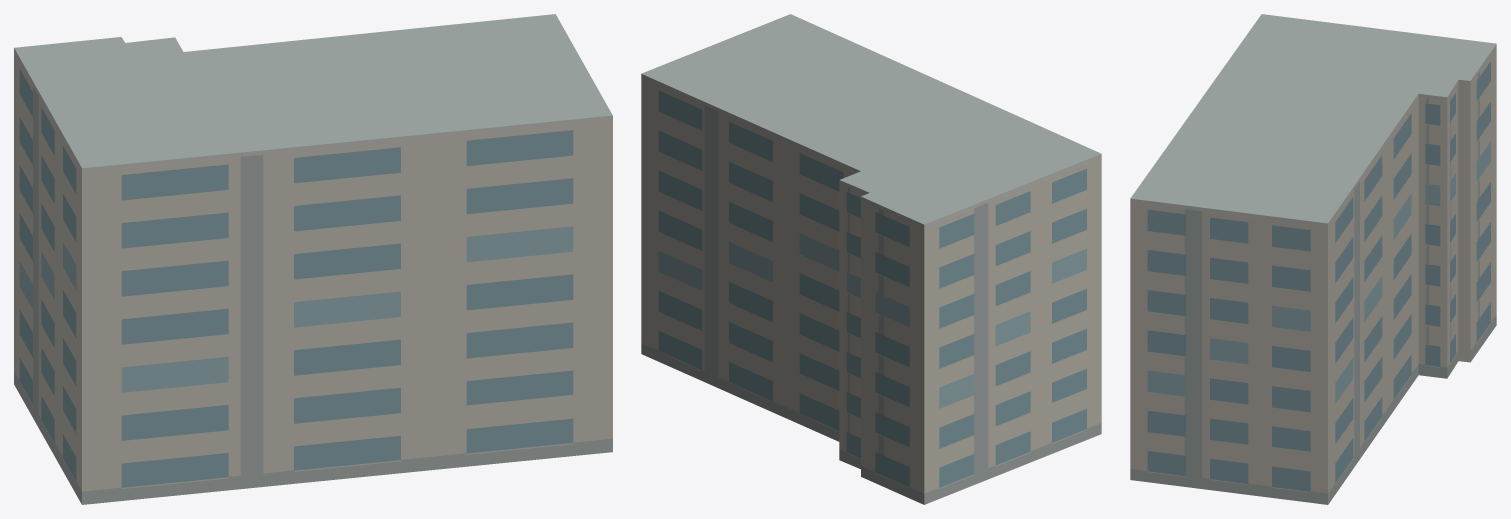
The model's file is survey-upis-32876108.glb.
3 views of the same model, side by side, from view 1: azimuth 30°, elevation 25°; view 2: azimuth 150°, elevation 25°; view 3: azimuth 270°, elevation 25° (orthographic). The views are drawn at different scales.
Visible parts, largest first — view 1: survey-upis-32876108.tmp; view 2: survey-upis-32876108.tmp; view 3: survey-upis-32876108.tmp.
Boxes of the visible parts, box(x1,y1,x2,y2) form: survey-upis-32876108.tmp: box(14, 14, 612, 504); survey-upis-32876108.tmp: box(641, 14, 1101, 504); survey-upis-32876108.tmp: box(1130, 14, 1496, 504).
Bounding box in the file's own units: 30.33 × 19 × 22.43.
